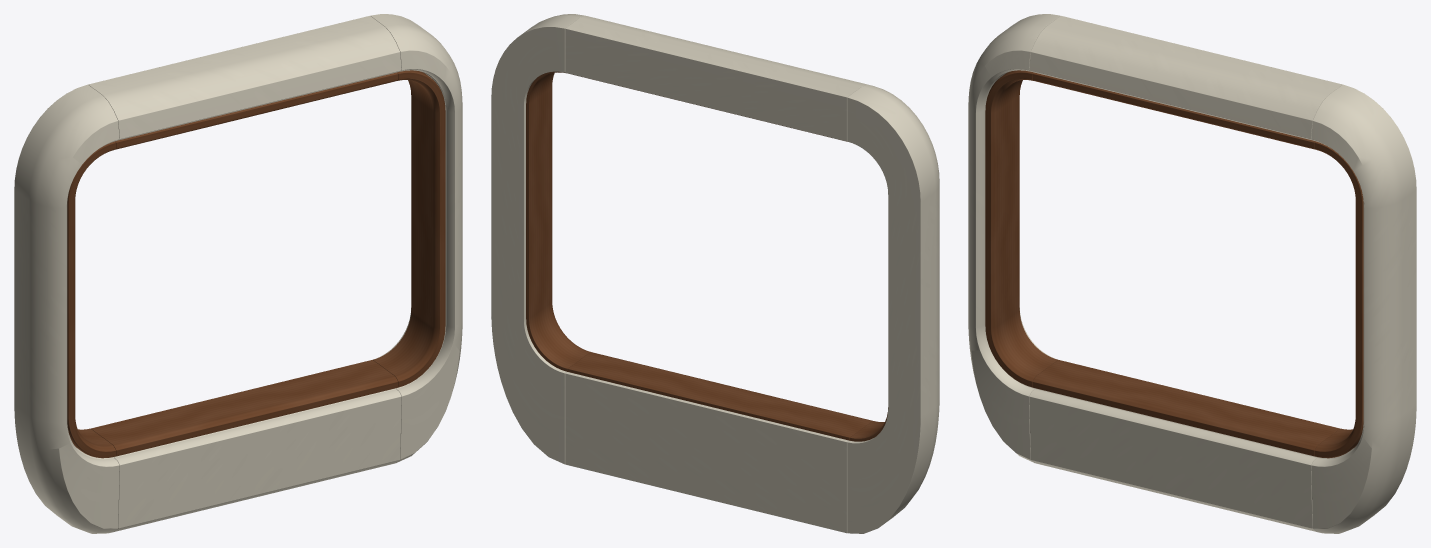
The model's file is AST-VR-01-ASSEMBLY.glb.
3 renders of one model, left to right at view 1: azimuth 30°, elevation 25°; view 2: azimuth 150°, elevation 25°; view 3: azimuth 330°, elevation 25°, orthographic.
Visible parts, largest first — view 1: ASTRAEA_runtime_ivory_enamel, ASTRAEA_runtime_warm_walnut; view 2: ASTRAEA_runtime_ivory_enamel, ASTRAEA_runtime_warm_walnut; view 3: ASTRAEA_runtime_ivory_enamel, ASTRAEA_runtime_warm_walnut.
Part boxes in pixels (x1=…): ASTRAEA_runtime_ivory_enamel: x1=14, y1=14, x2=462, y2=533; ASTRAEA_runtime_warm_walnut: x1=67, y1=70, x2=445, y2=458; ASTRAEA_runtime_ivory_enamel: x1=491, y1=14, x2=939, y2=533; ASTRAEA_runtime_warm_walnut: x1=526, y1=71, x2=888, y2=441; ASTRAEA_runtime_ivory_enamel: x1=968, y1=14, x2=1416, y2=533; ASTRAEA_runtime_warm_walnut: x1=985, y1=70, x2=1363, y2=458.
Bounding box in the file's own units: 3.35 × 3.25 × 0.43.
2 materials, 2 textured.
